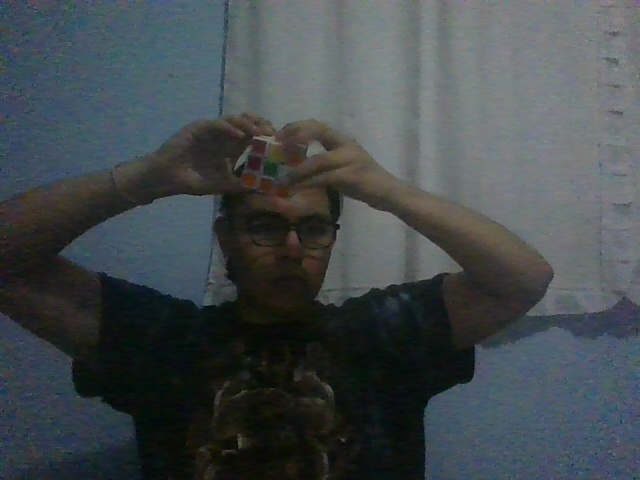rubik: (239, 135, 307, 199)
